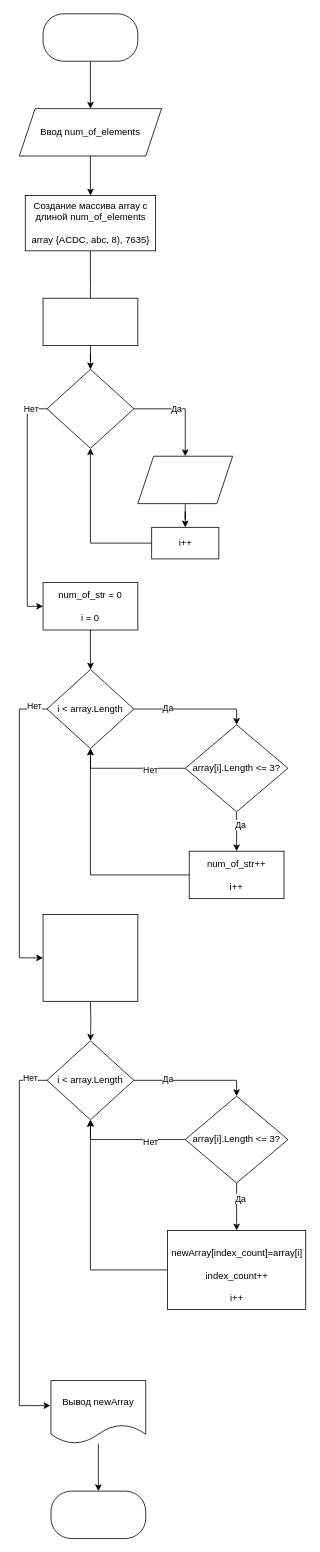
The diagram is 320 pixels wide and 1552 high, and some of its shapes have lost their labels. Here are the shapes that lost their labels. From the top down, the centre of each, then its label:
At point (90, 37): "Начало".
At point (90, 321): "i = 0".
At point (90, 408): "i < array.Length?".
At point (185, 479): "Ввод array[i]".
At point (90, 957): "Создание массива newArray с длиной num_of_str index_count = 0; i = 0".
At point (98, 1514): "Конец".
